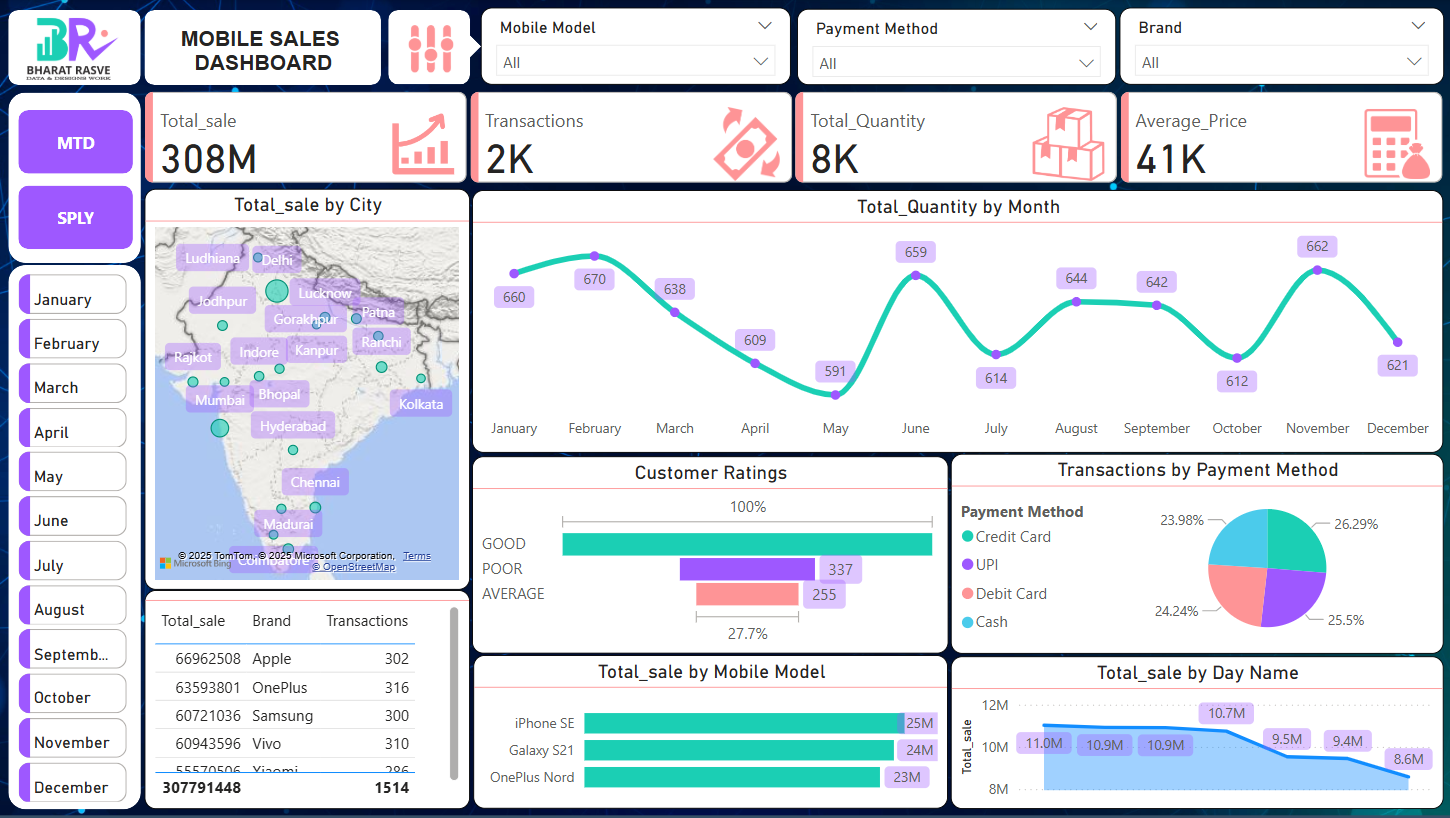

What the dashboard file says about the page in this screenshot:
{"tool":"powerbi","page":{"name":"M DASH","canvas":[1280,720],"ordinal":0},"visuals":[{"type":"shape","box":[9.6,8.4,116.5,66],"z":0},{"type":"shape","box":[10,81.1,116.7,150],"z":1000},{"type":"shape","box":[10,233.3,116.7,478.9],"z":2000},{"type":"advancedSlicerVisual","fields":{"Values":["customcalender.cudate.Variation.Date Hierarchy.Month"]},"box":[14.4,236.7,105.6,478.9],"z":3000},{"type":"cardVisual","fields":{"Data":["Mbilesales.Total_sale","Mbilesales.Transactions","Mbilesales.Total_Quantity","Mbilesales.Average_Price"]},"box":[125.6,75.6,1154.4,90],"z":4000},{"type":"slicer","fields":{"Values":["Mbilesales.Mobile Model"]},"box":[425.3,6.7,272.7,68],"z":5000},{"type":"slicer","fields":{"Values":["Mbilesales.Payment Method"]},"box":[703.4,7.2,281.1,67.6],"z":6000},{"type":"slicer","fields":{"Values":["Mbilesales.Brand"]},"box":[987.8,6.7,285.6,67.8],"z":7000},{"type":"shape","box":[344.7,9.3,72,65.3],"z":8000},{"type":"shape","box":[130,8.7,208,66],"z":9000},{"type":"shape","box":[392.2,25.6,33.3,31.1],"z":10000},{"type":"textbox","box":[137.5,18.8,193.8,55],"z":11000},{"type":"map","fields":{"Category":["Mbilesales.City"],"Size":["Mbilesales.Total_sale"]},"box":[130,166.2,286.2,352.5],"z":12000},{"type":"lineChart","fields":{"Y":["Mbilesales.Total_Quantity"],"Category":["customcalender.cudate.Variation.Date Hierarchy.Month"]},"box":[417.7,166.9,854.8,231],"z":13000},{"type":"image","box":[19,10.7,95.2,64.3],"z":14000},{"type":"image","box":[357.1,16.7,48.8,53.6],"z":15000},{"type":"funnel","title":"Customer Ratings","fields":{"Y":["Mbilesales.Customer Ratings"],"Category":["Mbilesales.TEXT_RATING"]},"box":[417.9,401,419,173.8],"z":16000},{"type":"pieChart","fields":{"Y":["Mbilesales.Transactions"],"Category":["Mbilesales.Payment Method"]},"box":[839.3,398.6,433.3,176.2],"z":17000},{"type":"clusteredBarChart","fields":{"Y":["Mbilesales.Total_sale"],"Category":["Mbilesales.Mobile Model"]},"box":[418.9,576.7,417.8,135.6],"z":18000},{"type":"areaChart","fields":{"Y":["Mbilesales.Total_sale"],"Category":["Mbilesales.Day Name"]},"box":[838.9,577.8,433.3,134.4],"z":19000},{"type":"tableEx","fields":{"Values":["Mbilesales.Total_sale","Mbilesales.Brand","Mbilesales.Transactions"]},"box":[130,519,286,193],"z":20000},{"type":"pageNavigator","box":[19,96.4,101.2,123.8],"z":21000}]}

Visuals, with their boxes in screenshot pixels (x1, y1, x2, y2), scaled from the page's 1280x720 canvas onto the 1450x818 screenshot:
shape: pyautogui.locateOnScreen(11, 10, 143, 85)
shape: pyautogui.locateOnScreen(11, 92, 144, 263)
shape: pyautogui.locateOnScreen(11, 265, 144, 809)
advancedSlicerVisual - customcalender.cudate.Variation.Date Hierarchy.Month: pyautogui.locateOnScreen(16, 269, 136, 813)
cardVisual - Mbilesales.Total_sale x Mbilesales.Transactions: pyautogui.locateOnScreen(142, 86, 1449, 188)
slicer - Mbilesales.Mobile Model: pyautogui.locateOnScreen(482, 8, 791, 85)
slicer - Mbilesales.Payment Method: pyautogui.locateOnScreen(797, 8, 1115, 85)
slicer - Mbilesales.Brand: pyautogui.locateOnScreen(1119, 8, 1443, 85)
shape: pyautogui.locateOnScreen(390, 11, 472, 85)
shape: pyautogui.locateOnScreen(147, 10, 383, 85)
shape: pyautogui.locateOnScreen(444, 29, 482, 64)
textbox: pyautogui.locateOnScreen(156, 21, 375, 84)
map - Mbilesales.City x Mbilesales.Total_sale: pyautogui.locateOnScreen(147, 189, 471, 589)
lineChart - Mbilesales.Total_Quantity x customcalender.cudate.Variation.Date Hierarchy.Month: pyautogui.locateOnScreen(473, 190, 1442, 452)
image: pyautogui.locateOnScreen(22, 12, 129, 85)
image: pyautogui.locateOnScreen(405, 19, 460, 80)
"Customer Ratings" funnel: pyautogui.locateOnScreen(473, 456, 948, 653)
pieChart - Mbilesales.Transactions x Mbilesales.Payment Method: pyautogui.locateOnScreen(951, 453, 1442, 653)
clusteredBarChart - Mbilesales.Total_sale x Mbilesales.Mobile Model: pyautogui.locateOnScreen(475, 655, 948, 809)
areaChart - Mbilesales.Total_sale x Mbilesales.Day Name: pyautogui.locateOnScreen(950, 656, 1441, 809)
tableEx - Mbilesales.Total_sale x Mbilesales.Brand: pyautogui.locateOnScreen(147, 590, 471, 809)
pageNavigator: pyautogui.locateOnScreen(22, 110, 136, 250)
